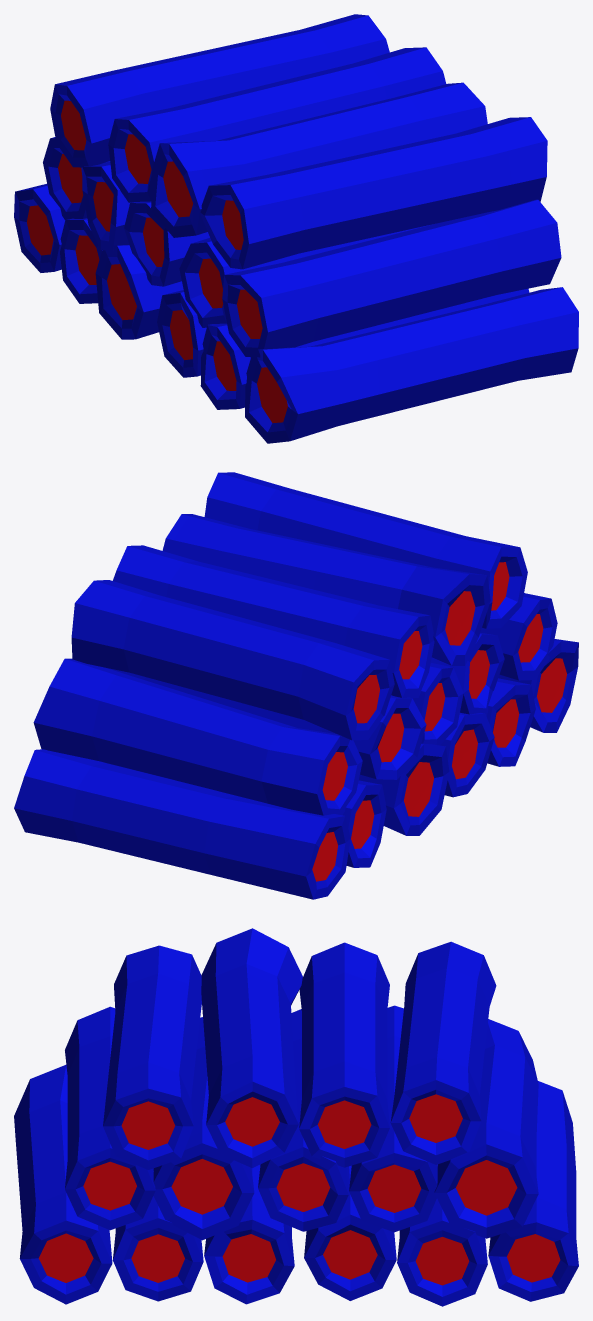
Rendered from SM_Short_LogStack7.fbx.
3 renders of one model, top to bottom at view 1: azimuth 30°, elevation 25°; view 2: azimuth 150°, elevation 25°; view 3: azimuth 270°, elevation 25°, orthographic. The views are drawn at different scales.
Visible parts, largest first — view 1: SM_Short_LogStack7; view 2: SM_Short_LogStack7; view 3: SM_Short_LogStack7.
Boxes of the visible parts, x1,y1,x2,y2 form: SM_Short_LogStack7: (14,14,578,443); SM_Short_LogStack7: (14,472,578,899); SM_Short_LogStack7: (14,928,578,1306).
Size of the model in its own units: 80.79 by 56.66 by 126.
